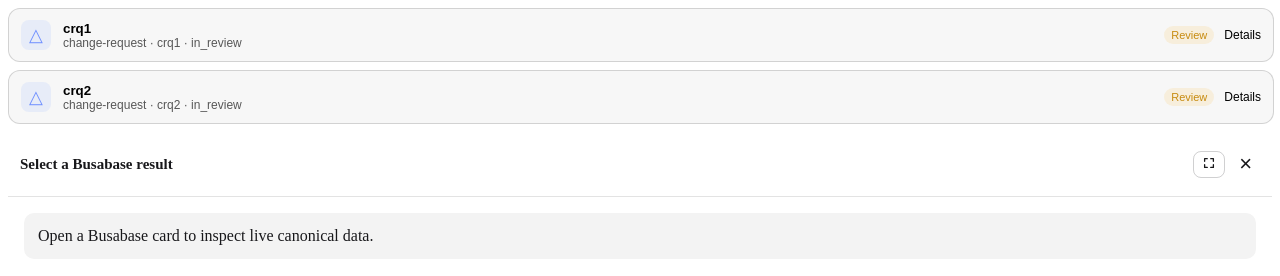
Test case: client plugin › rejects a late or mismatched Cloud response (wrong-cr)
This screenshot has width=1280, height=276.
Click the button "△ crq1 change-request · crq1 · in_review Review Details" at (122, 42), box [9, 9, 1273, 61]
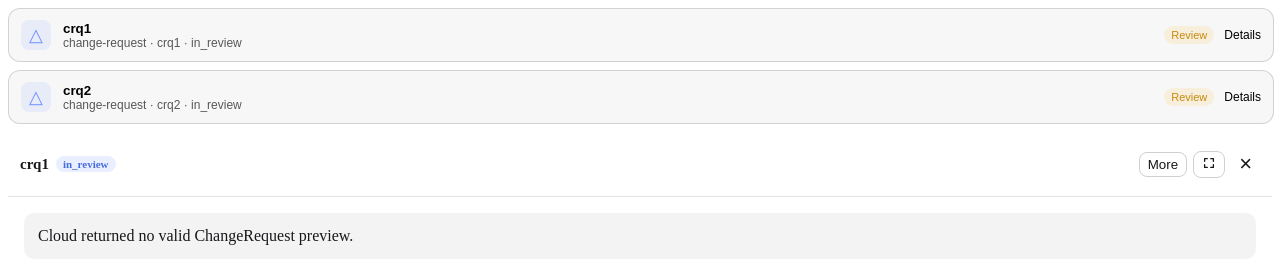
Result: the text "Cloud returned no valid ChangeRequest preview." is shown at [24, 213, 1256, 259]
